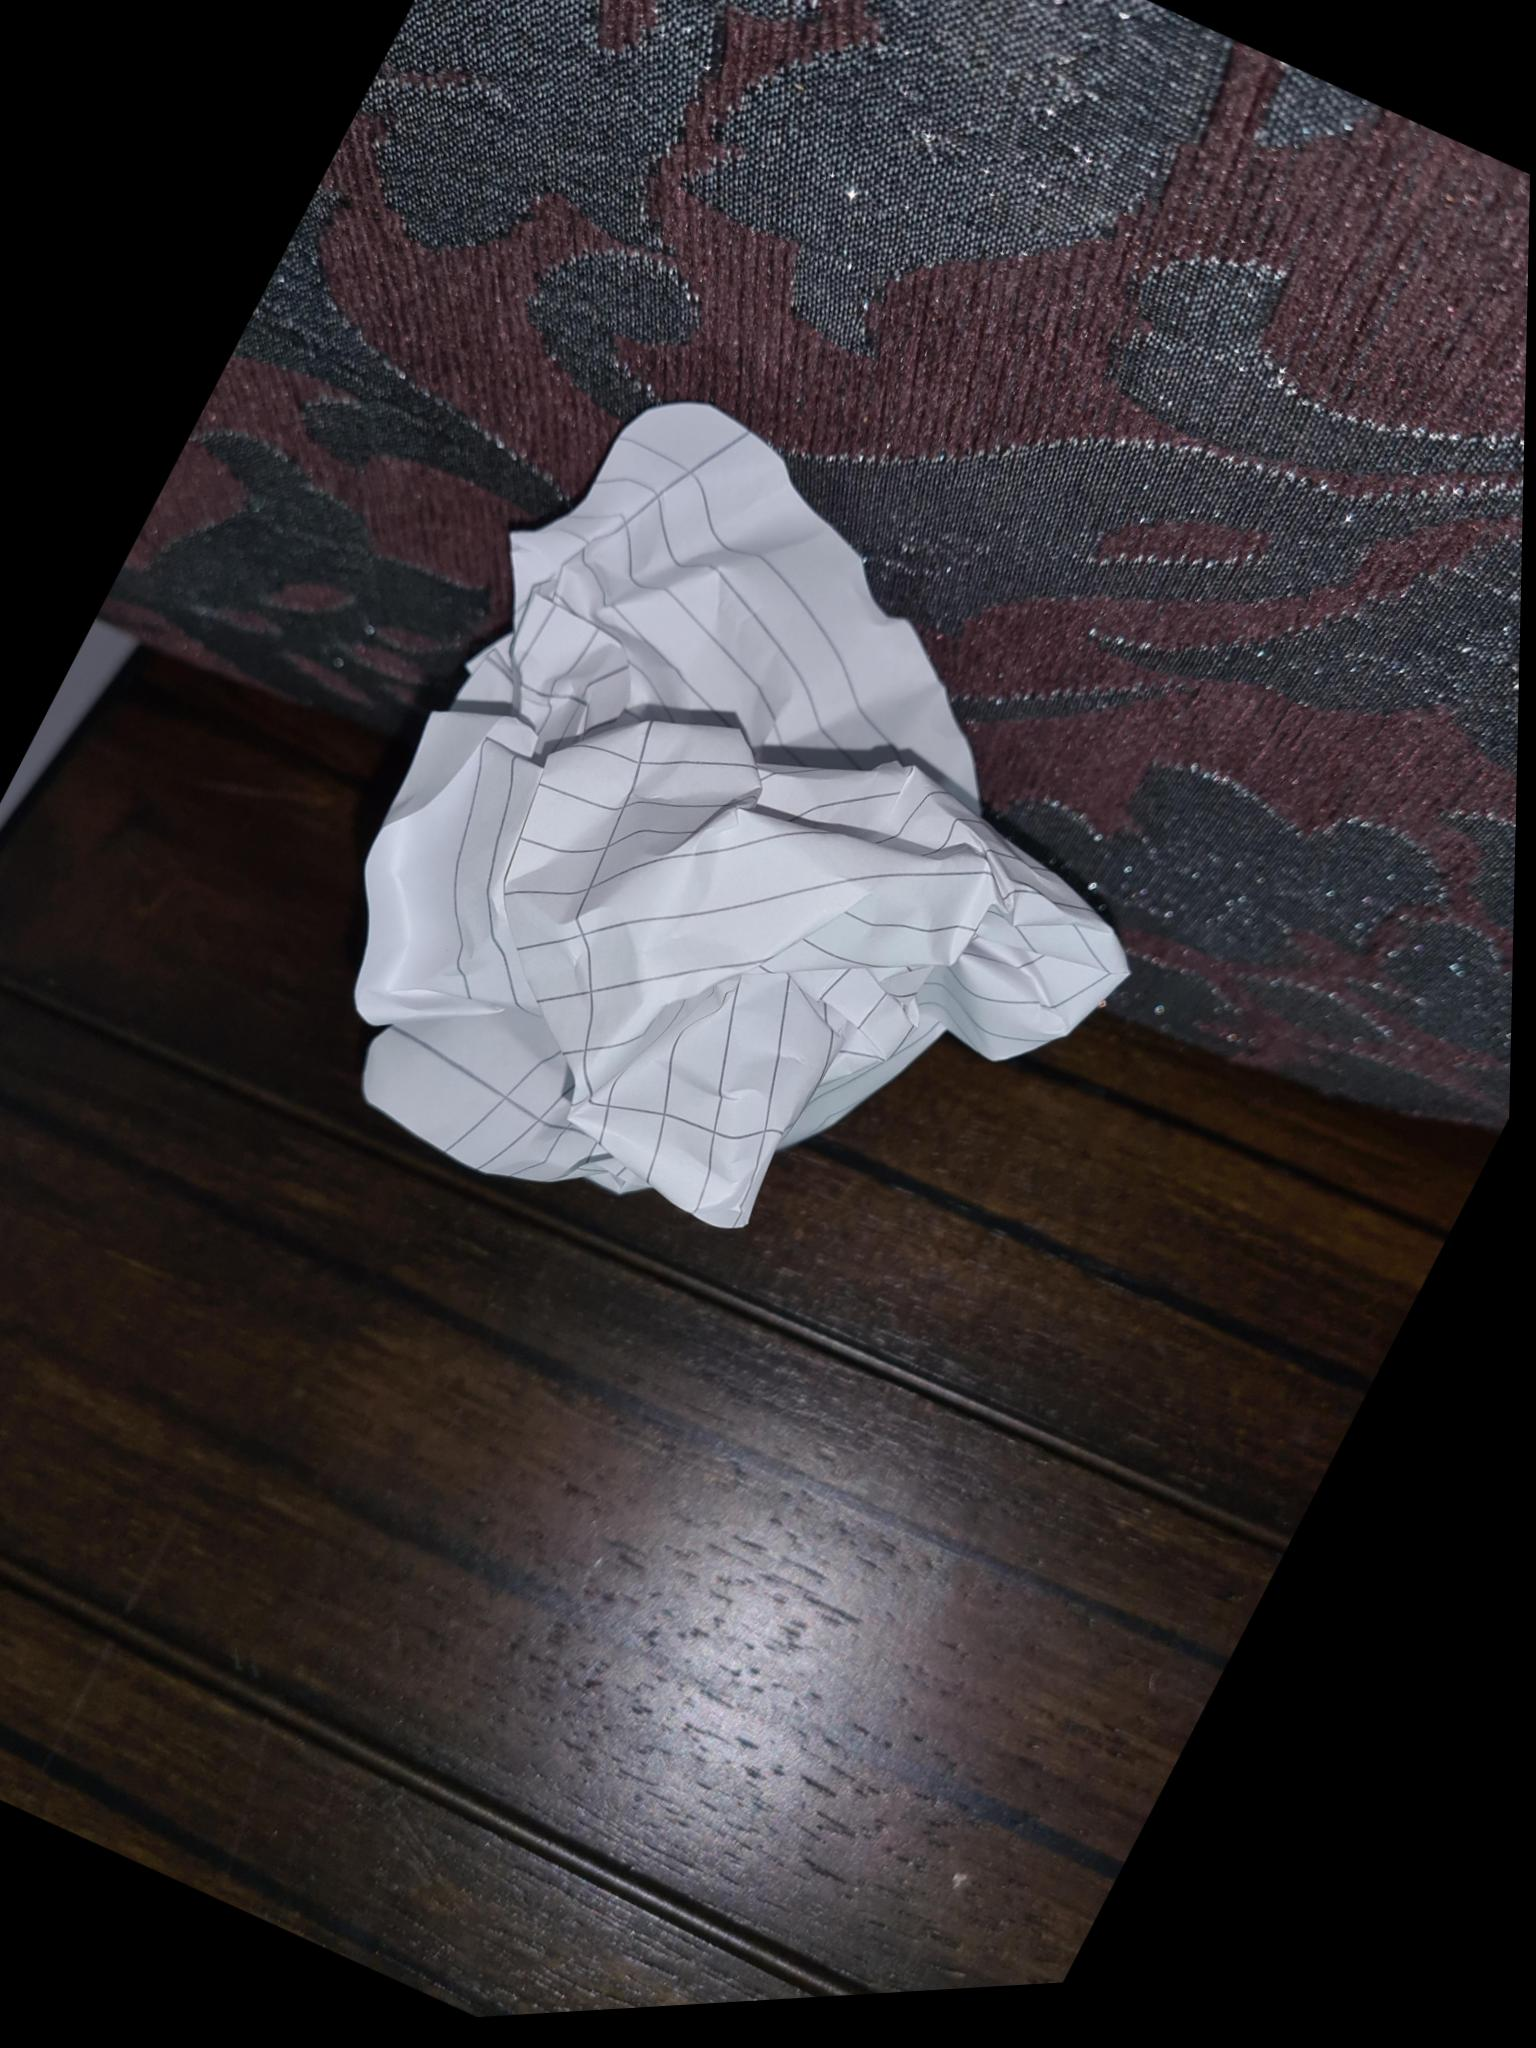paper: (357, 403, 1125, 1226)
